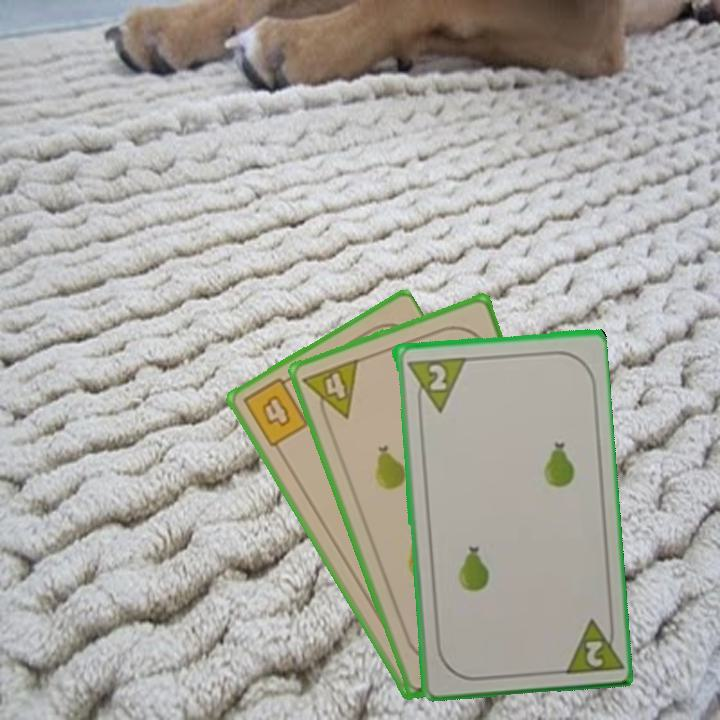2p: (557, 612, 622, 677), (403, 353, 466, 416)
4b: (239, 371, 311, 450)
4p: (299, 355, 362, 428)
